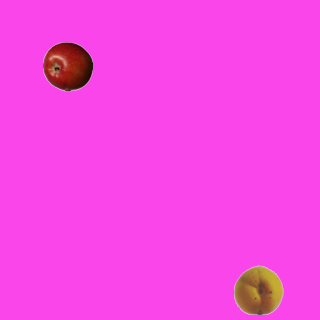Apple Braeburn: (42, 41, 92, 91)
Peach 2: (233, 264, 283, 314)
